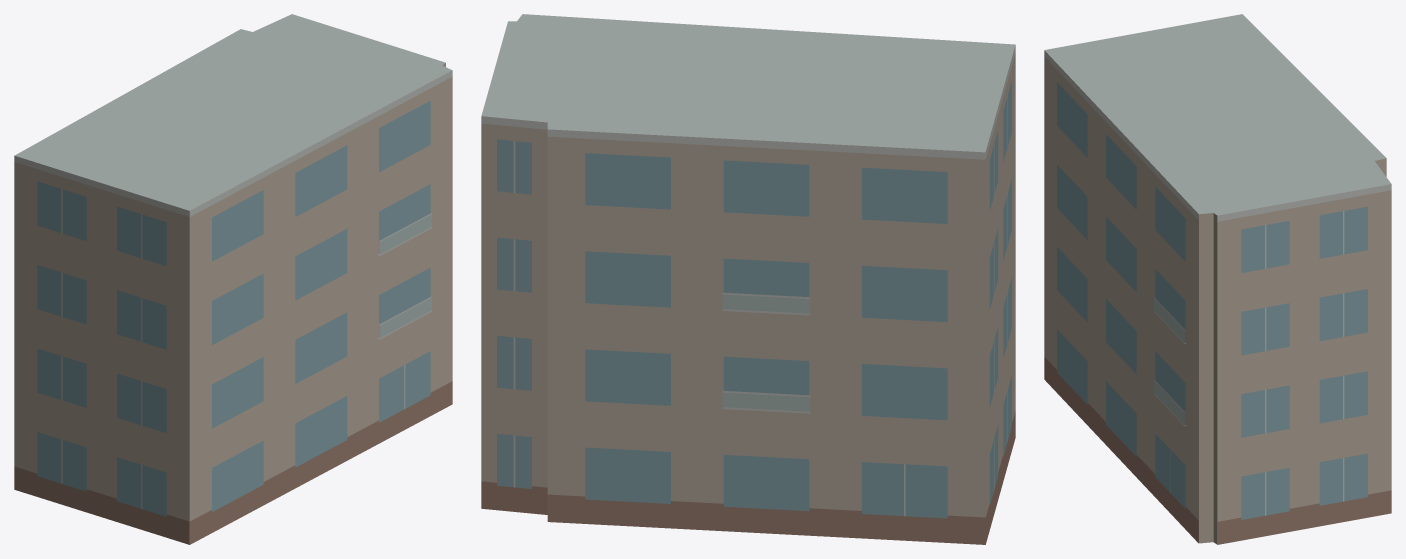
Rendered from survey-upis-32977242.glb.
The picture shows the model from 3 angles, left to right: view 1: azimuth 30°, elevation 25°; view 2: azimuth 150°, elevation 25°; view 3: azimuth 270°, elevation 25°; orthographic projection. The views are drawn at different scales.
Parts seen in each view (by area): view 1: survey-upis-32977242.tmp; view 2: survey-upis-32977242.tmp; view 3: survey-upis-32977242.tmp.
Boxes of the visible parts, x1,y1,x2,y2 form: survey-upis-32977242.tmp: [14, 14, 452, 544]; survey-upis-32977242.tmp: [481, 14, 1015, 544]; survey-upis-32977242.tmp: [1044, 14, 1391, 544].
Bounding box in the file's own units: 17.21 × 13.1 × 12.53.
